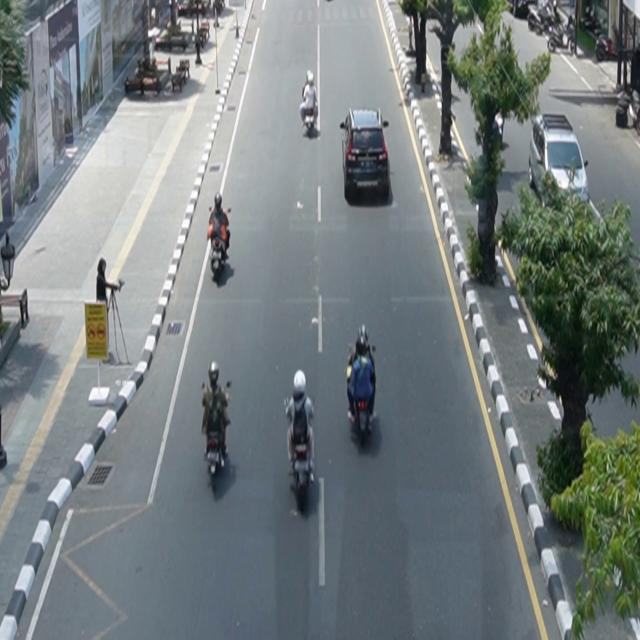car: (529, 114, 591, 212), (341, 108, 392, 202)
